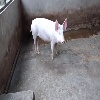heo: (28, 14, 69, 60)
